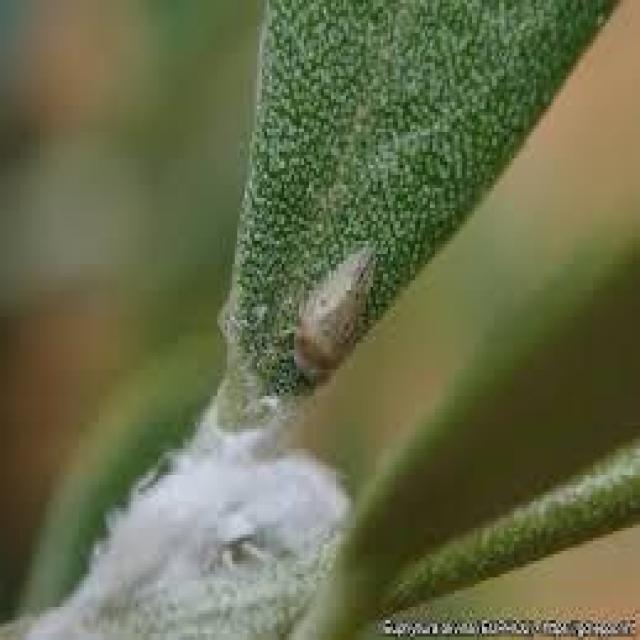Psyllid: (22, 402, 348, 637)
